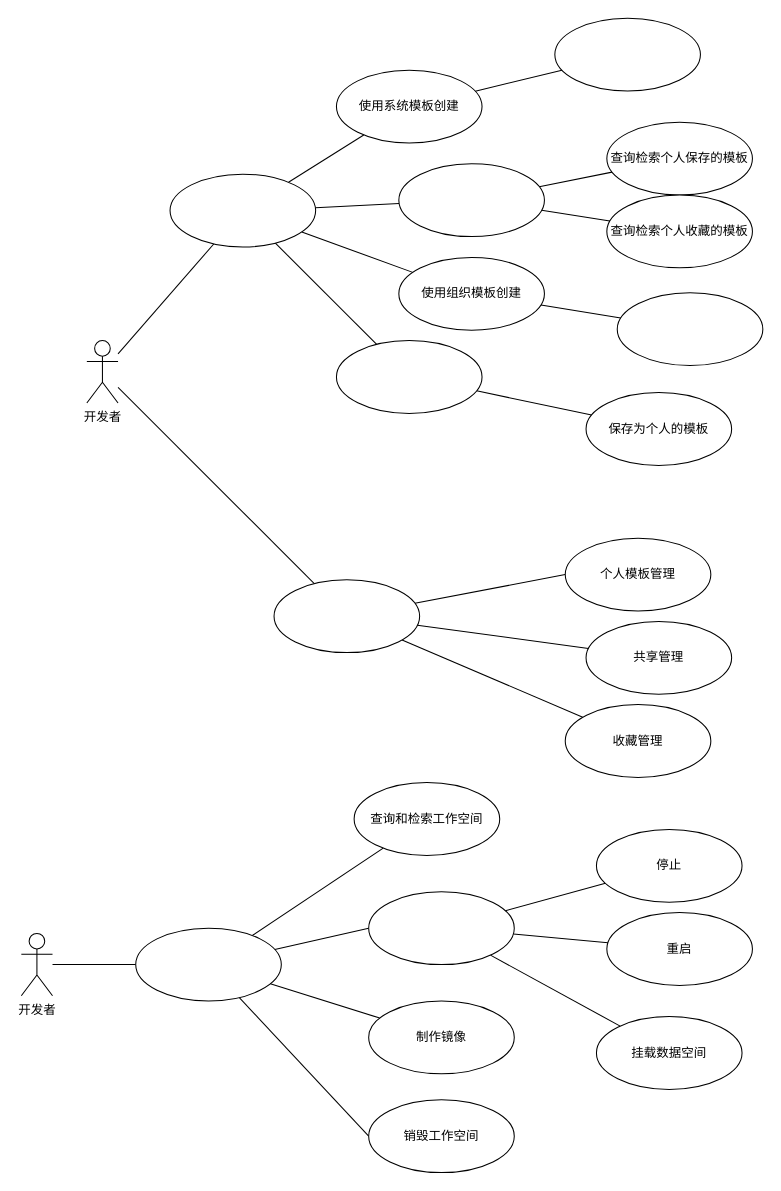
Image size: 781x1191. Some labels were removed from this diagram. Here are the shapes that lost their labels. From the top down, the box of each, then its label:
(554, 17, 700, 91): 查询检索系统模板
(169, 173, 316, 247): 创建工作空间
(398, 163, 544, 237): 使用个人模板创建
(616, 292, 763, 366): 查询检索组织共享的模板
(335, 340, 482, 413): 自定义创建
(273, 579, 420, 653): 模板管理
(368, 891, 514, 965): 操作工作空间
(135, 927, 281, 1001): 工作空间管理
